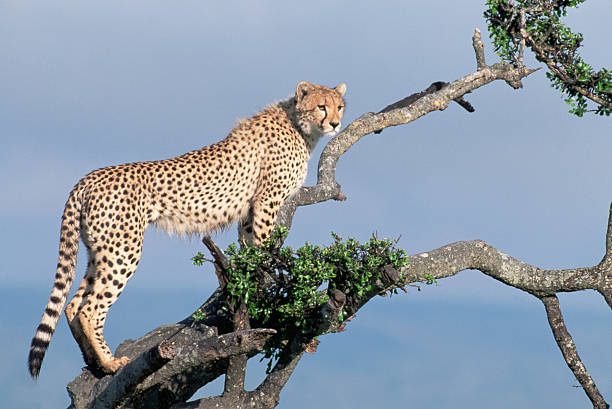cheetah: (290, 74, 351, 140)
